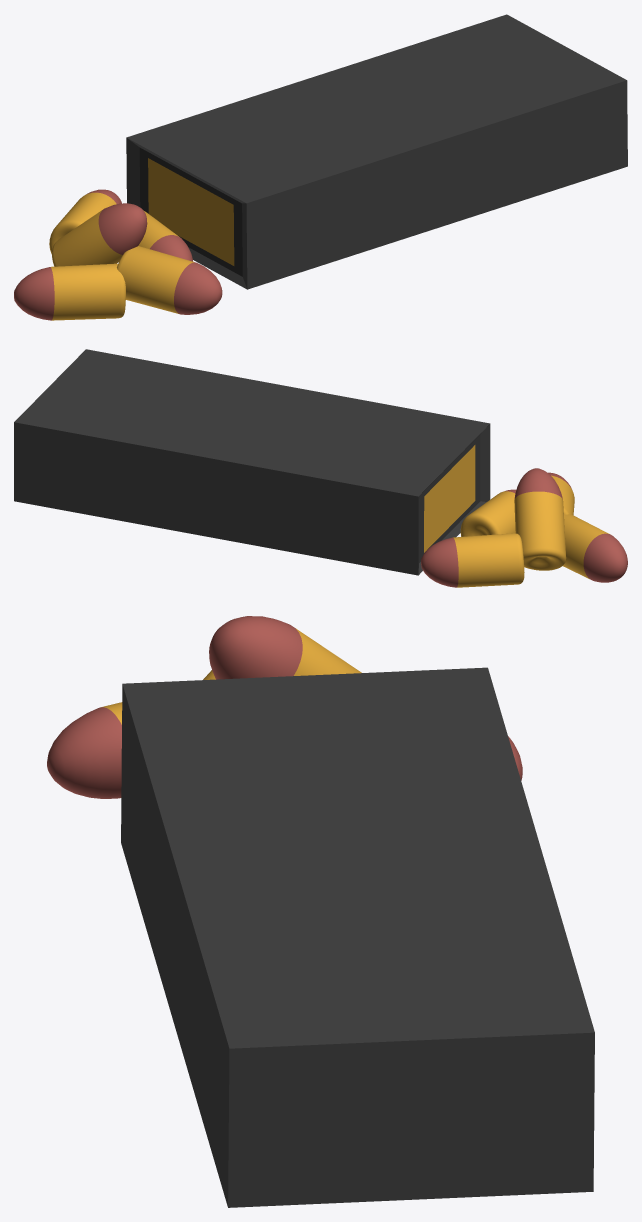
Rendered from HandgunClip.fbx.
3 renders of one model, top to bottom at view 1: azimuth 30°, elevation 25°; view 2: azimuth 150°, elevation 25°; view 3: azimuth 270°, elevation 25°, orthographic. The views are drawn at different scales.
Parts seen in each view (by area): view 1: Cube, Sphere.004, Sphere.001, Sphere.002, Sphere.003, Sphere; view 2: Cube, Sphere.003, Sphere.002, Sphere.004, Sphere, Sphere.001; view 3: Cube, Sphere.002, Sphere.001.
Part boxes in pixels (x1,y1,x2,y2): Cube: [126, 14, 627, 289]; Sphere.004: [14, 263, 125, 320]; Sphere.001: [117, 246, 222, 314]; Sphere.002: [52, 203, 147, 266]; Sphere.003: [49, 189, 121, 254]; Sphere: [138, 210, 192, 261]; Cube: [14, 349, 490, 575]; Sphere.003: [421, 533, 524, 587]; Sphere.002: [514, 468, 566, 570]; Sphere.004: [563, 514, 627, 582]; Sphere: [460, 489, 516, 536]; Sphere.001: [548, 472, 574, 515]; Cube: [121, 667, 594, 1207]; Sphere.002: [209, 616, 361, 679]; Sphere.001: [47, 702, 122, 798].
Size of the model in its own units: 19.87 by 3.42 by 8.54.
